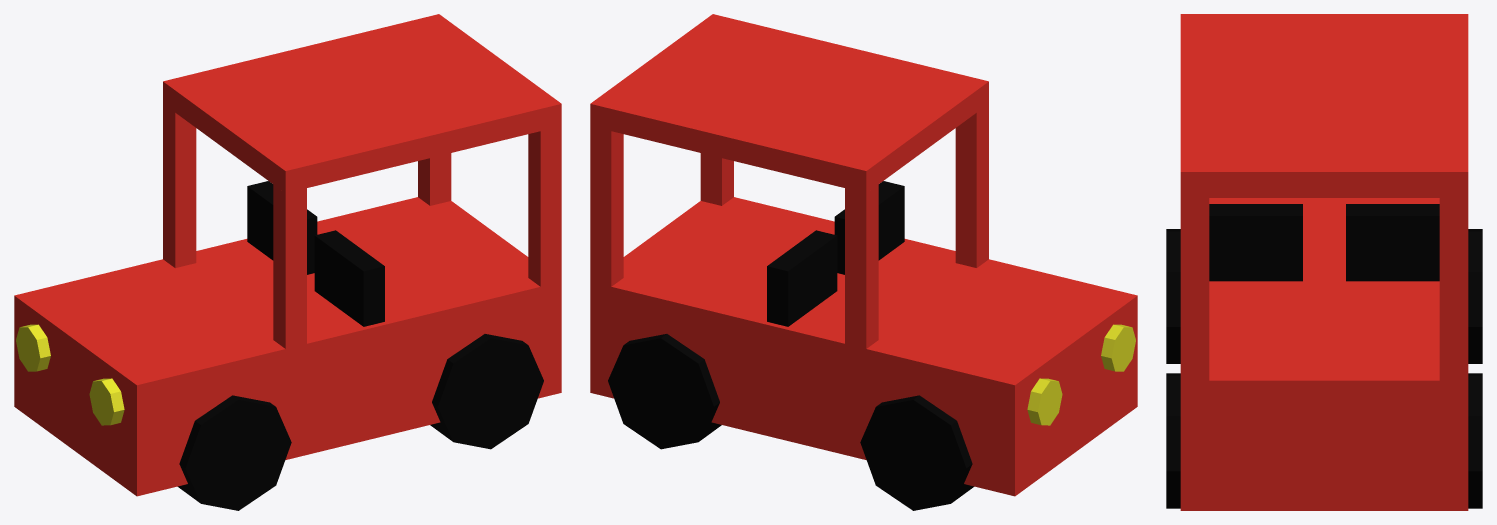
The model's file is car2.gltf.
3 views of the same model, side by side, from view 1: azimuth 30°, elevation 25°; view 2: azimuth 150°, elevation 25°; view 3: azimuth 270°, elevation 25° (orthographic). The views are drawn at different scales.
Visible parts, largest first — view 1: Cube, Cube.005, Cylinder.001, Cylinder, Cube.001, Cube.003, Cube.002, Cube.006, Cube.007, Cube.004, Cylinder.003, Cylinder.002; view 2: Cube, Cube.005, Cylinder.001, Cylinder, Cube.002, Cube.004, Cube.001, Cube.007, Cube.006, Cube.003, Cylinder.002, Cylinder.003; view 3: Cube, Cube.005, Cube.006, Cube.007, Cube.003, Cube.004, Cylinder, Cylinder.001.
Boxes of the visible parts, x1=… form: Cube: x1=14, y1=197, x2=561, y2=496; Cube.005: x1=163, y1=14, x2=561, y2=193; Cylinder.001: x1=177, y1=395, x2=291, y2=510; Cylinder: x1=430, y1=334, x2=543, y2=449; Cube.001: x1=273, y1=184, x2=306, y2=348; Cube.003: x1=528, y1=126, x2=561, y2=286; Cube.002: x1=163, y1=104, x2=196, y2=267; Cube.006: x1=314, y1=230, x2=384, y2=326; Cube.007: x1=247, y1=181, x2=317, y2=274; Cube.004: x1=418, y1=153, x2=451, y2=205; Cylinder.003: x1=89, y1=378, x2=124, y2=425; Cylinder.002: x1=16, y1=324, x2=50, y2=371; Cube: x1=590, y1=197, x2=1137, y2=496; Cube.005: x1=590, y1=14, x2=988, y2=193; Cylinder.001: x1=860, y1=395, x2=974, y2=510; Cylinder: x1=608, y1=334, x2=721, y2=449; Cube.002: x1=845, y1=184, x2=878, y2=348; Cube.004: x1=590, y1=126, x2=623, y2=286; Cube.001: x1=955, y1=104, x2=988, y2=267; Cube.007: x1=767, y1=230, x2=837, y2=326; Cube.006: x1=834, y1=181, x2=904, y2=274; Cube.003: x1=700, y1=153, x2=733, y2=205; Cylinder.002: x1=1027, y1=378, x2=1062, y2=425; Cylinder.003: x1=1101, y1=324, x2=1135, y2=371; Cube: x1=1180, y1=198, x2=1468, y2=510; Cube.005: x1=1180, y1=14, x2=1468, y2=197; Cube.006: x1=1209, y1=204, x2=1302, y2=281; Cube.007: x1=1346, y1=204, x2=1439, y2=281; Cube.003: x1=1180, y1=198, x2=1209, y2=380; Cube.004: x1=1439, y1=198, x2=1468, y2=380; Cylinder: x1=1166, y1=373, x2=1482, y2=508; Cylinder.001: x1=1166, y1=229, x2=1482, y2=363.
Bounding box in the file's own units: 4.1 × 2.9 × 2.2.
